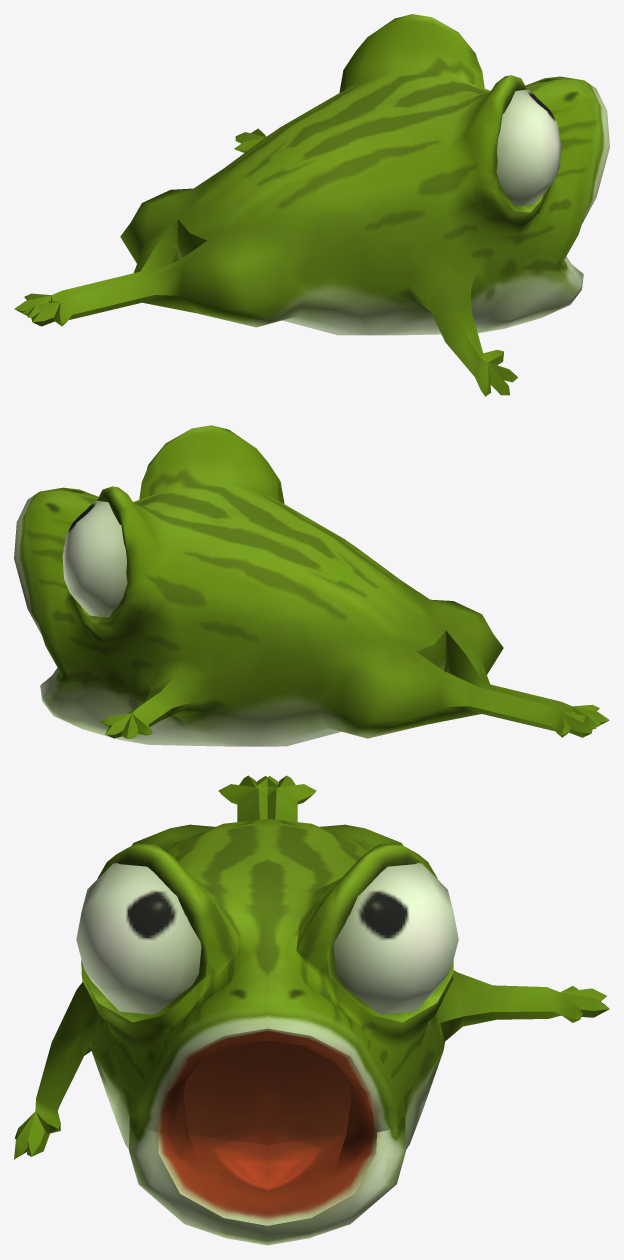
Rendered from sn_shp008.fbx.
3 renders of one model, top to bottom at view 1: azimuth 30°, elevation 25°; view 2: azimuth 150°, elevation 25°; view 3: azimuth 270°, elevation 25°, orthographic. The views are drawn at different scales.
Parts seen in each view (by area): view 1: sn_shp008; view 2: sn_shp008; view 3: sn_shp008.
Boxes of the visible parts, x1,y1,x2,y2 form: sn_shp008: (14,14,609,396); sn_shp008: (14,425,609,746); sn_shp008: (14,775,609,1245).
Size of the model in its own units: 1.18 by 0.5204 by 0.8148.
